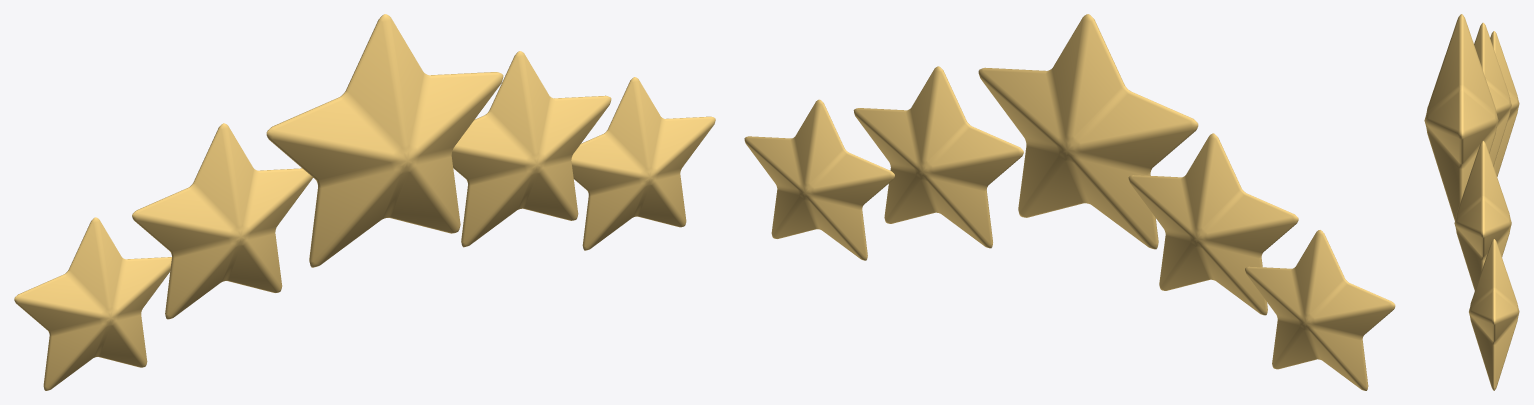
3 views of the same model, side by side, from view 1: azimuth 30°, elevation 25°; view 2: azimuth 150°, elevation 25°; view 3: azimuth 270°, elevation 25° (orthographic). The views are drawn at different scales.
Parts seen in each view (by area): view 1: Circle.008, Circle.003, Circle.001, Circle.004, Circle.002; view 2: Circle.008, Circle.001, Circle.003, Circle.002, Circle.004; view 3: Circle.008, Circle.001, Circle.002, Circle.003, Circle.004.
Boxes of the visible parts, <box> form: Circle.008: <box>266,14,503,267</box>; Circle.003: <box>132,123,312,319</box>; Circle.001: <box>451,51,611,247</box>; Circle.004: <box>14,217,171,390</box>; Circle.002: <box>571,77,715,250</box>; Circle.008: <box>978,14,1198,249</box>; Circle.001: <box>853,66,1023,248</box>; Circle.003: <box>1128,133,1298,315</box>; Circle.002: <box>744,99,894,260</box>; Circle.004: <box>1245,230,1395,390</box>; Circle.008: <box>1424,14,1498,220</box>; Circle.001: <box>1454,141,1511,290</box>; Circle.002: <box>1469,239,1519,390</box>; Circle.003: <box>1474,22,1511,165</box>; Circle.004: <box>1490,31,1519,176</box>.
Size of the model in its own units: 1.13 by 0.4847 by 0.1627.
